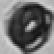correct: (4, 3, 54, 54)
